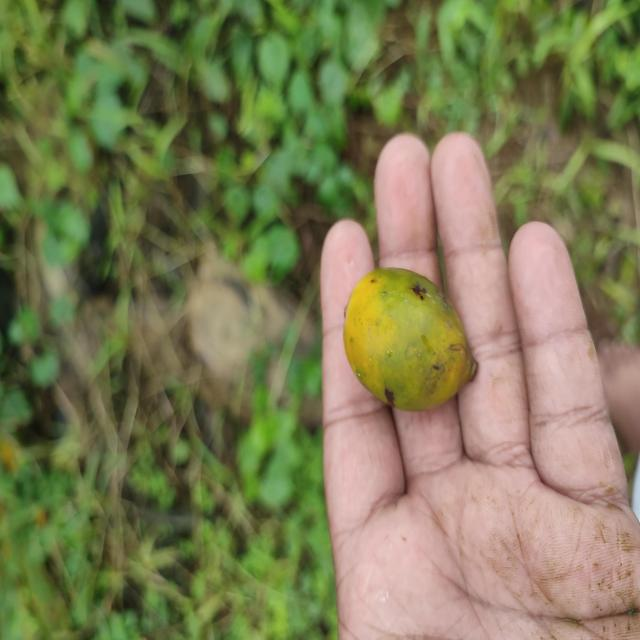good: (342, 269, 478, 414)
